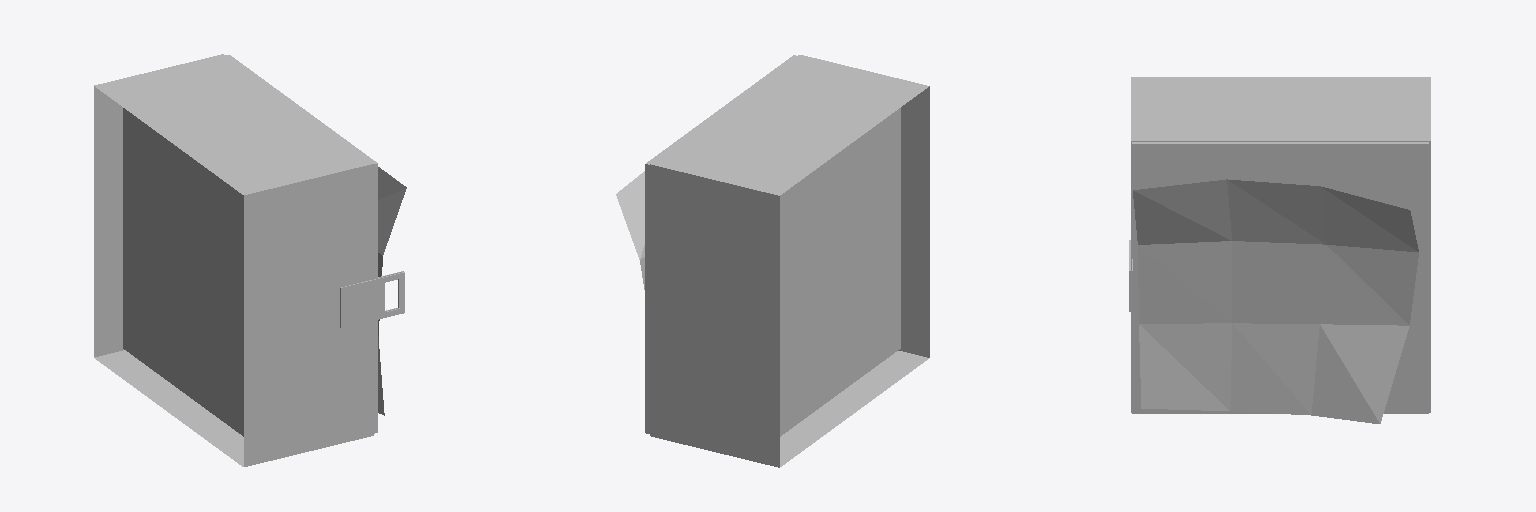
The model's file is hor1 itembox 1.obj.
3 renders of one model, left to right at view 1: azimuth 30°, elevation 25°; view 2: azimuth 150°, elevation 25°; view 3: azimuth 270°, elevation 25°, orthographic.
Visible parts, largest first — view 1: itembox_1_Cube, itembox_1_cover_Cube.001; view 2: itembox_1_Cube, itembox_1_cover_Cube.001; view 3: itembox_1_cover_Cube.001, itembox_1_Cube.
Part boxes in pixels (x1,y1,x2,y2): itembox_1_Cube: (94, 54, 404, 466); itembox_1_cover_Cube.001: (226, 55, 406, 433); itembox_1_Cube: (650, 55, 929, 467); itembox_1_cover_Cube.001: (616, 55, 796, 433); itembox_1_cover_Cube.001: (1132, 142, 1428, 423); itembox_1_Cube: (1129, 77, 1430, 412).
Size of the model in its own units: 0.3351 by 0.5015 by 0.502.